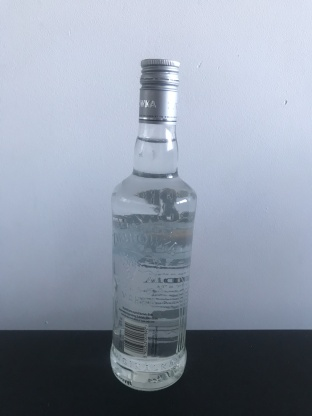nakretka: (137, 55, 181, 128)
